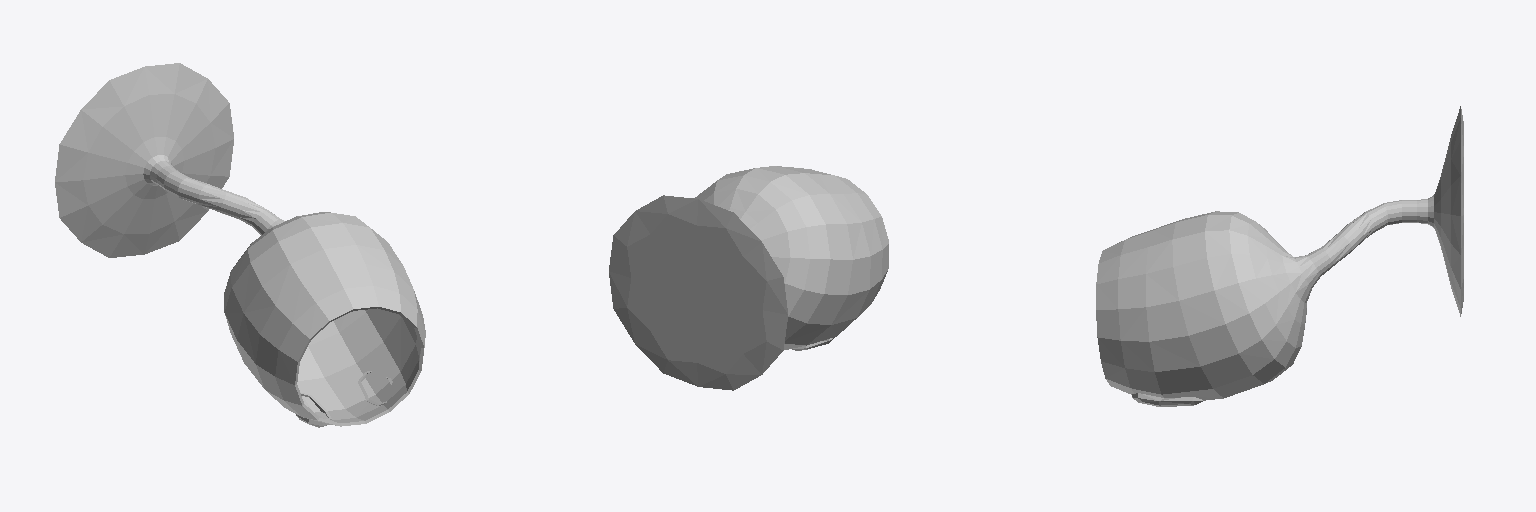
File: animation_000009.obj
3 views of the same model, side by side, from view 1: azimuth 30°, elevation 25°; view 2: azimuth 150°, elevation 25°; view 3: azimuth 270°, elevation 25° (orthographic).
Bounding box in the file's own units: 2.55 × 2.82 × 3.66.